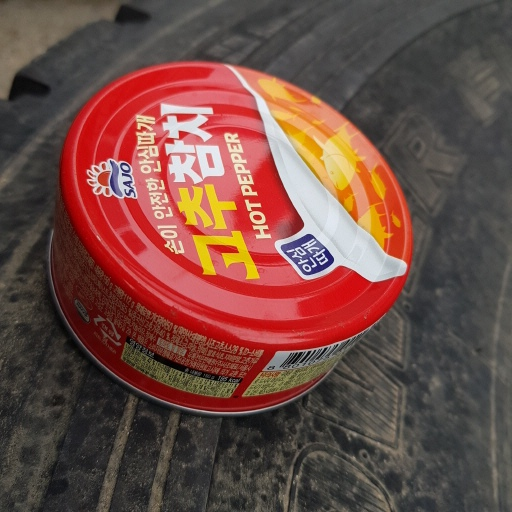Metal_1: (46, 61, 413, 417)
